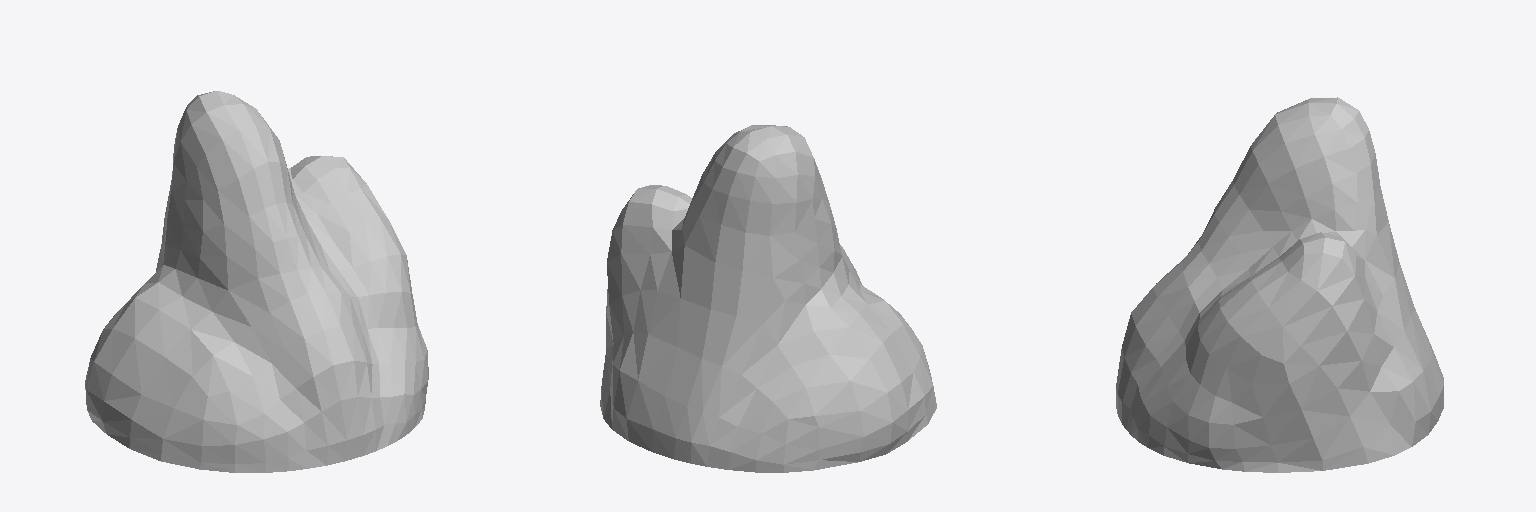
File: stone5.obj
The picture shows the model from 3 angles: view 1: azimuth 30°, elevation 25°; view 2: azimuth 150°, elevation 25°; view 3: azimuth 270°, elevation 25°; orthographic projection.
Parts seen in each view (by area): view 1: stone5_Group1.012; view 2: stone5_Group1.012; view 3: stone5_Group1.012.
Part boxes in pixels (bbox=[...]): stone5_Group1.012: bbox=[85, 91, 428, 472]; stone5_Group1.012: bbox=[600, 125, 936, 472]; stone5_Group1.012: bbox=[1116, 97, 1443, 472].
Bounding box in the file's own units: 1.82 × 1.73 × 1.75.